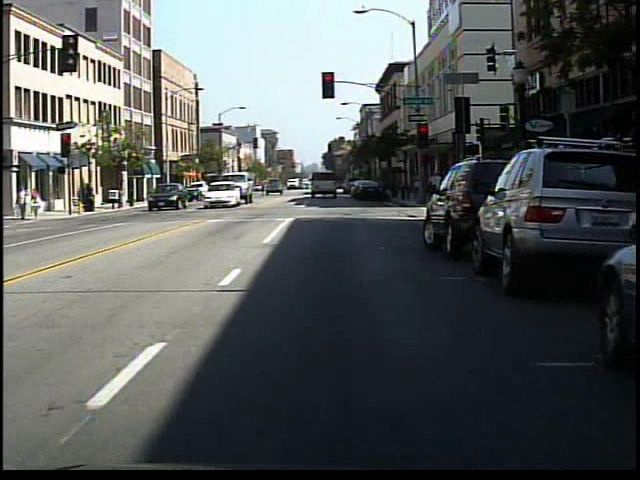person: (15, 183, 33, 225), (30, 186, 47, 220)
